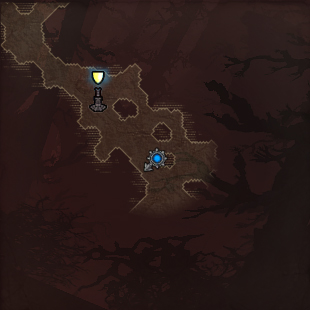ShieldPylon: (89, 68, 108, 112)
